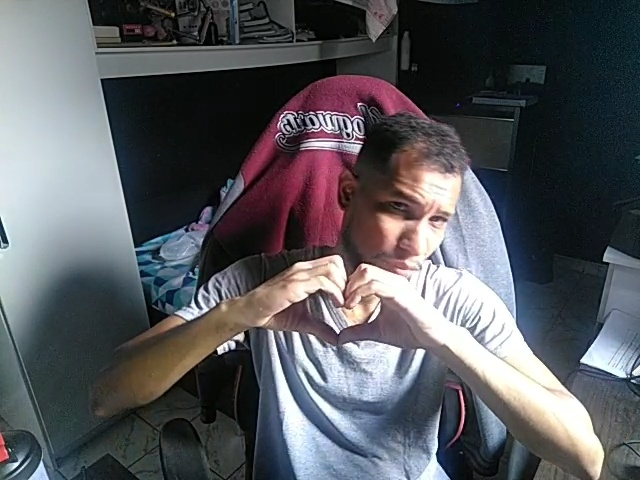eu_te_amo: (267, 256, 431, 351)
